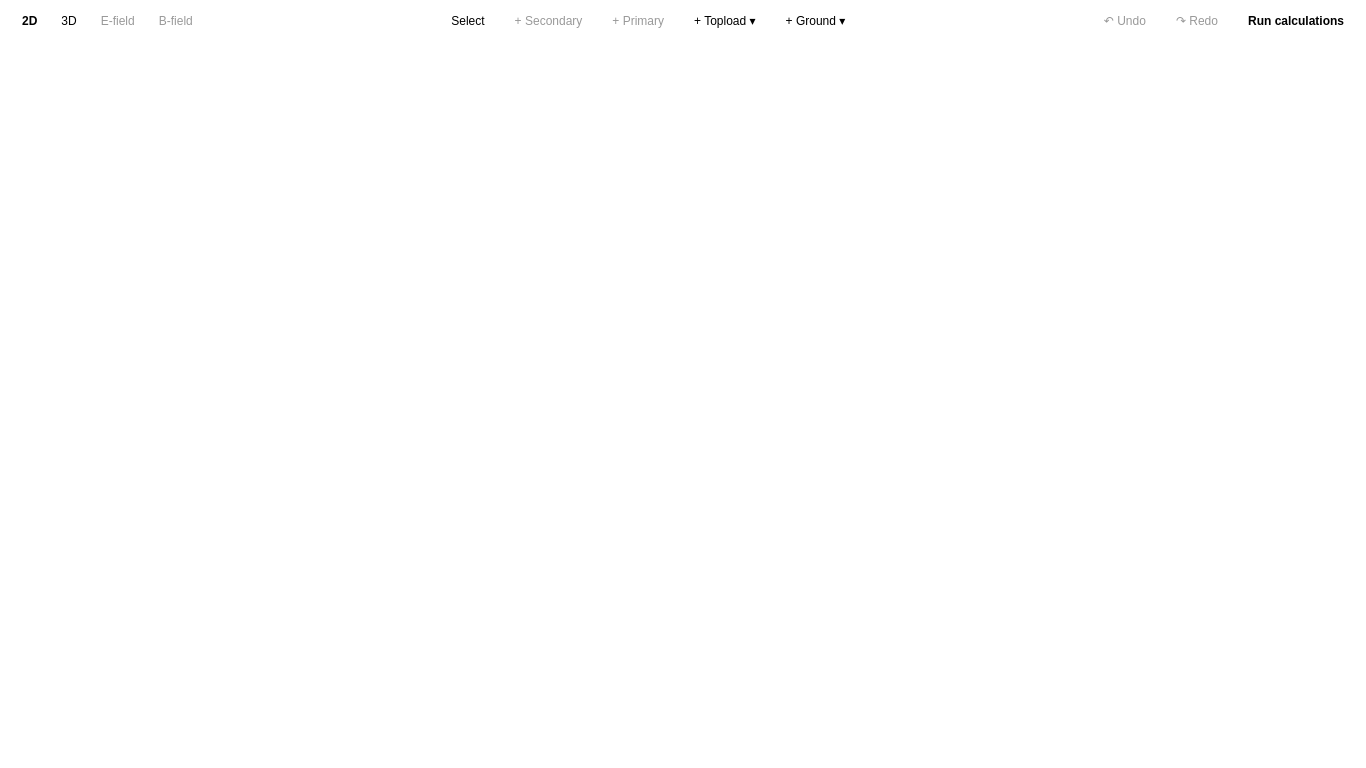
Test case: Toolbar placement dropdown › clicking the backdrop closes the menu without arming placement
The width and height of the screenshot is (1366, 768).
Click the button with test id "tool-topload": (725, 21) top-left (682, 8), bottom-right (768, 34)
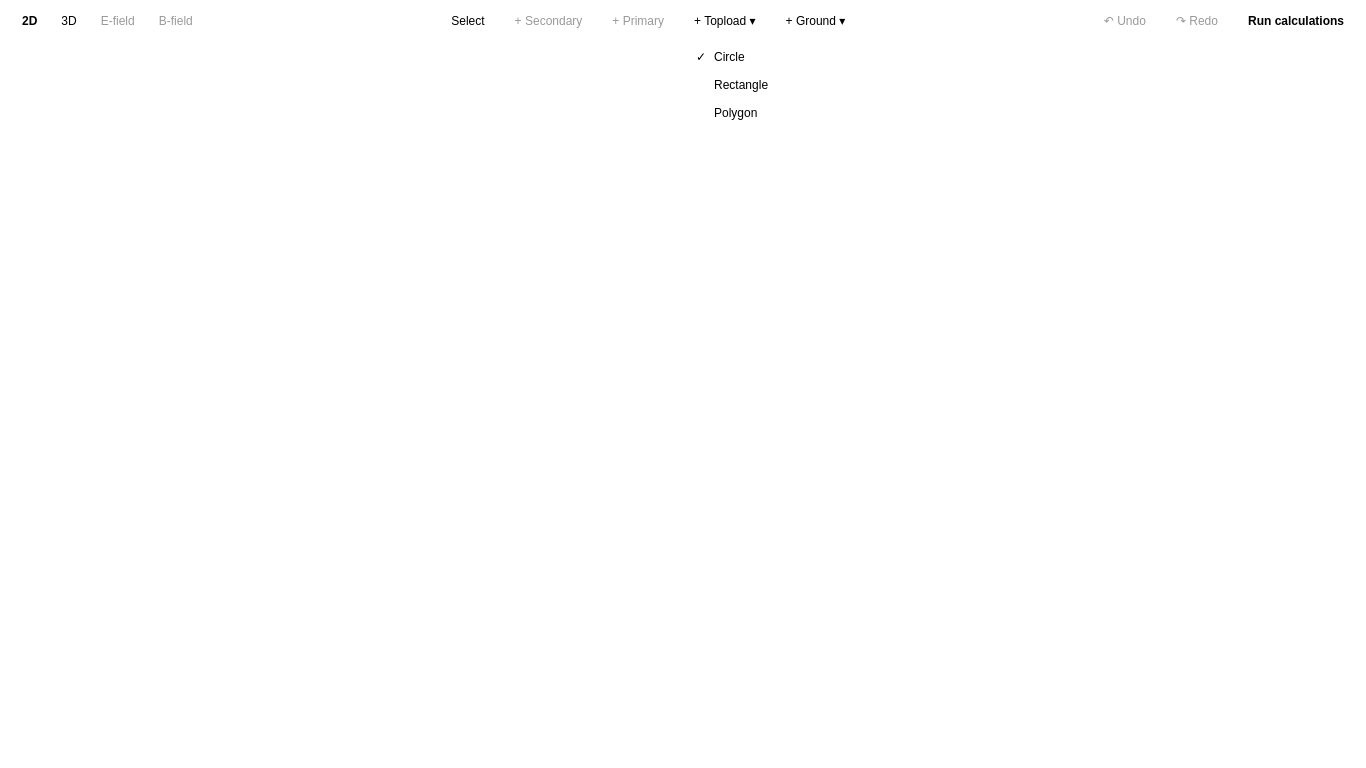
The backdrop is the only element with this class while the menu is open.
Click the element with class "dropdown-backdrop": (683, 384) top-left (0, 0), bottom-right (1365, 767)
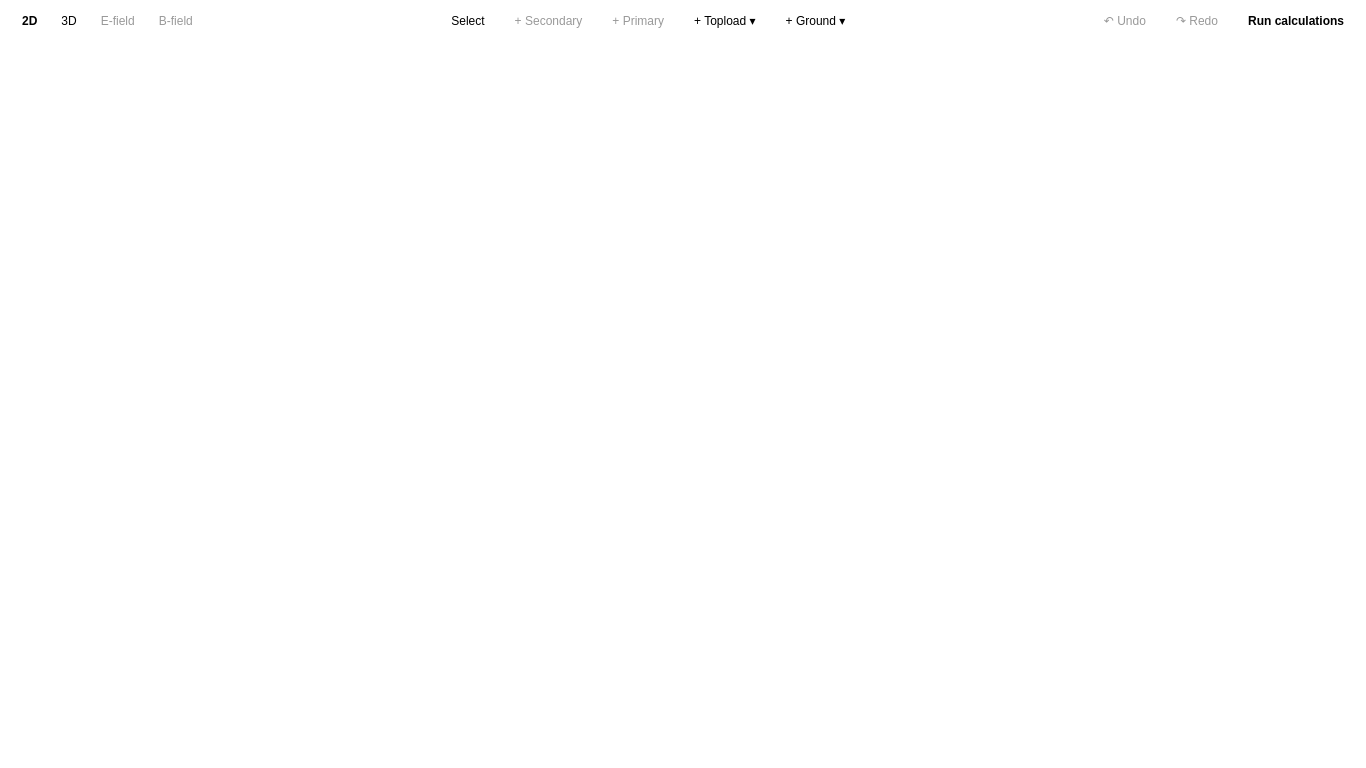
Result: the menu with test id "shape-menu-topload" is gone
